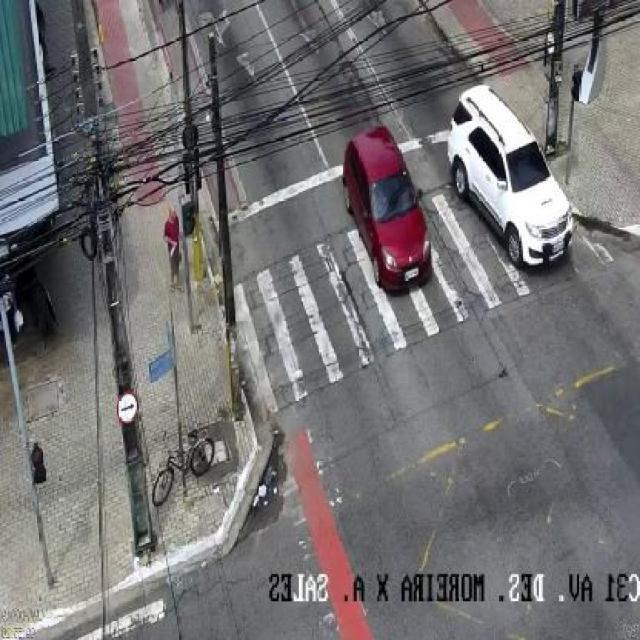Car: (432, 82, 582, 294), (325, 101, 440, 299)
